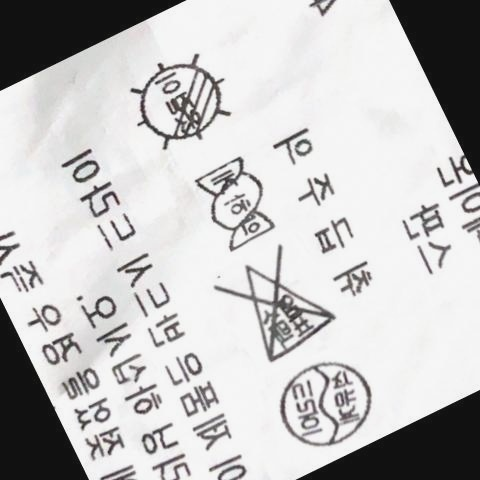dry_clean_petrol_only: (272, 360, 373, 446)
line_dry_in_shade: (131, 58, 231, 150)
non_chlorine_bleach: (229, 253, 329, 361)
wring: (190, 161, 274, 249)
